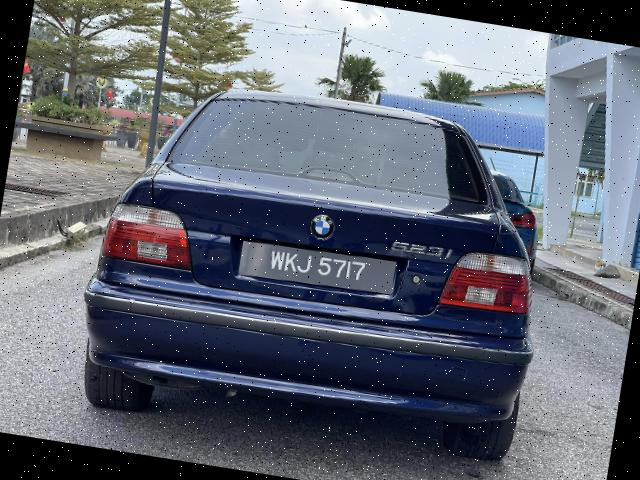License_Plate: (249, 245, 383, 290)
